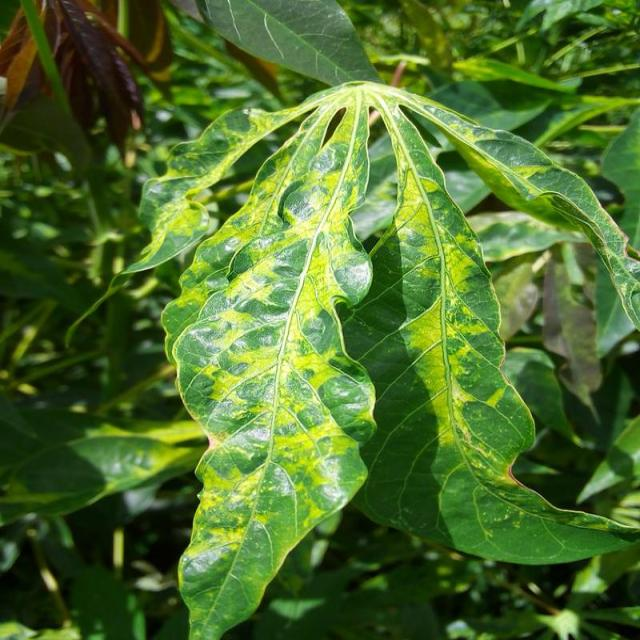cassava leaf: (122, 77, 639, 637), (338, 97, 640, 566), (161, 82, 379, 637)
